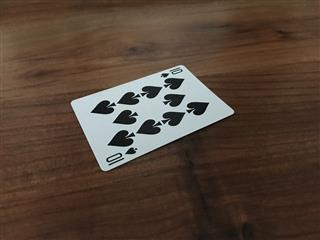TenOfSpades: (68, 63, 234, 171)
